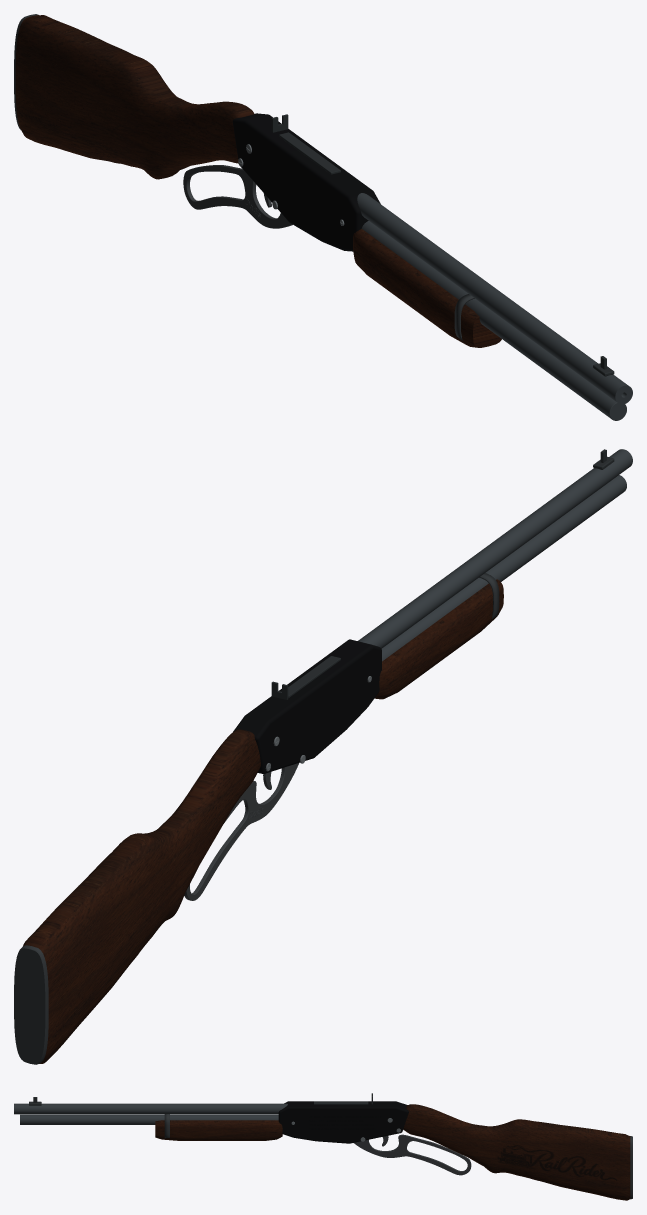
Rendered from rail_rider_rifle.glb.
3 renders of one model, top to bottom at view 1: azimuth 30°, elevation 25°; view 2: azimuth 150°, elevation 25°; view 3: azimuth 270°, elevation 25°, orthographic. The views are drawn at different scales.
Visible parts, largest first — view 1: StockVisual, Receiver - stamped shell, Barrel - recessed muzzle, Forearm, BB reserve tube, Lever, Rear sight spring; view 2: StockVisual, Receiver - stamped shell, Barrel - recessed muzzle, Forearm, BB reserve tube, Buttplate, Lever; view 3: StockVisual, Receiver - stamped shell, Barrel - recessed muzzle, Forearm, BB reserve tube, Lever, Rear sight spring, Buttplate.
Boxes of the visible parts, <box> form: StockVisual: <box>15,15,254,179</box>; Receiver - stamped shell: <box>232,113,380,251</box>; Barrel - recessed muzzle: <box>357,193,632,404</box>; Forearm: <box>353,229,501,347</box>; BB reserve tube: <box>361,221,626,420</box>; Lever: <box>183,165,292,228</box>; Rear sight spring: <box>279,132,340,174</box>; StockVisual: <box>23,729,260,1063</box>; Receiver - stamped shell: <box>233,639,381,773</box>; Barrel - recessed muzzle: <box>358,449,632,648</box>; Forearm: <box>374,579,503,699</box>; BB reserve tube: <box>381,475,626,661</box>; Buttplate: <box>14,945,48,1064</box>; Lever: <box>184,763,298,900</box>; StockVisual: <box>403,1104,630,1200</box>; Receiver - stamped shell: <box>278,1101,408,1143</box>; Barrel - recessed muzzle: <box>14,1103,287,1114</box>; Forearm: <box>155,1120,282,1140</box>; BB reserve tube: <box>20,1114,278,1124</box>; Lever: <box>354,1134,471,1175</box>; Rear sight spring: <box>314,1101,368,1104</box>; Buttplate: <box>630,1136,632,1199</box>.
Size of the model in its own units: 0.036 by 0.1734 by 0.933.
7 materials, 2 textured.
